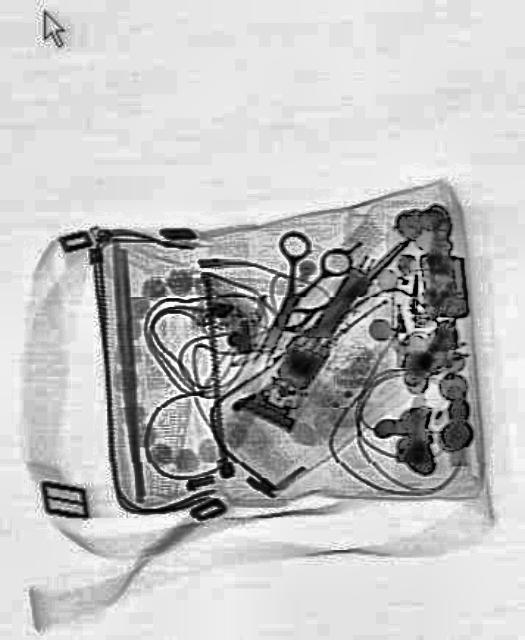Scissors: (227, 215, 355, 382)
